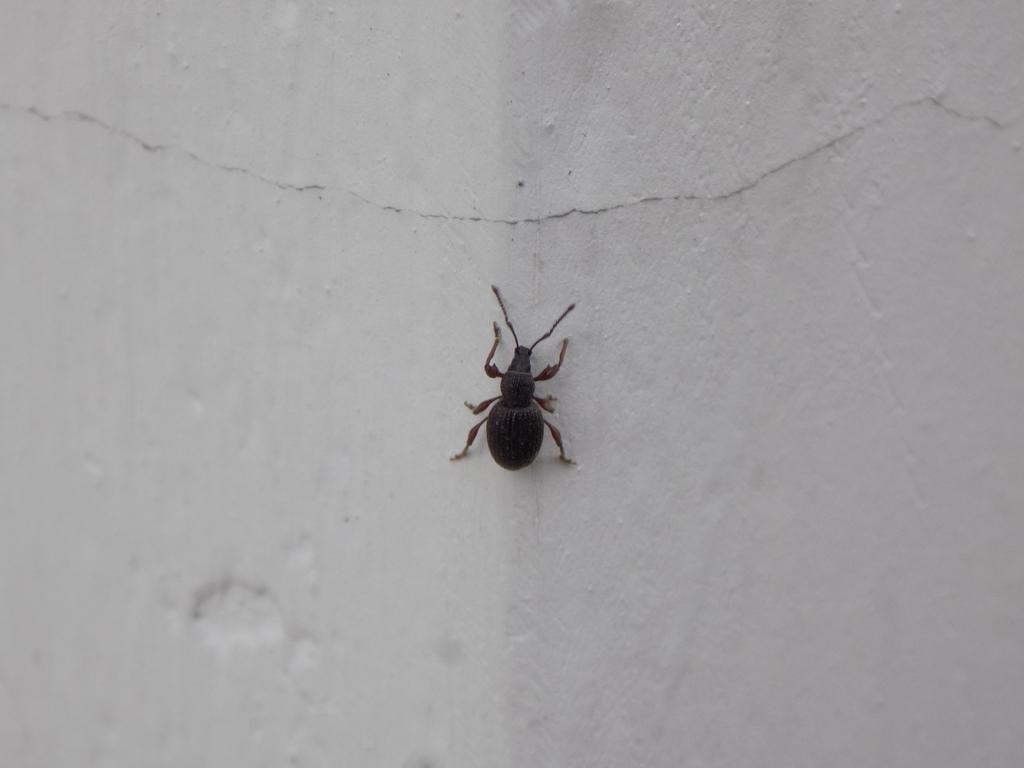weevils: (423, 236, 621, 521)
